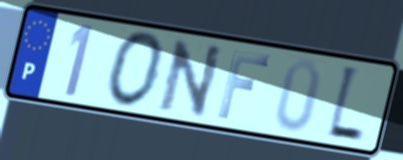0: (272, 56, 325, 135)
1: (63, 23, 95, 99)
F: (214, 48, 273, 122)
L: (323, 62, 367, 147)
N: (156, 38, 226, 121)
O: (104, 29, 168, 111)
